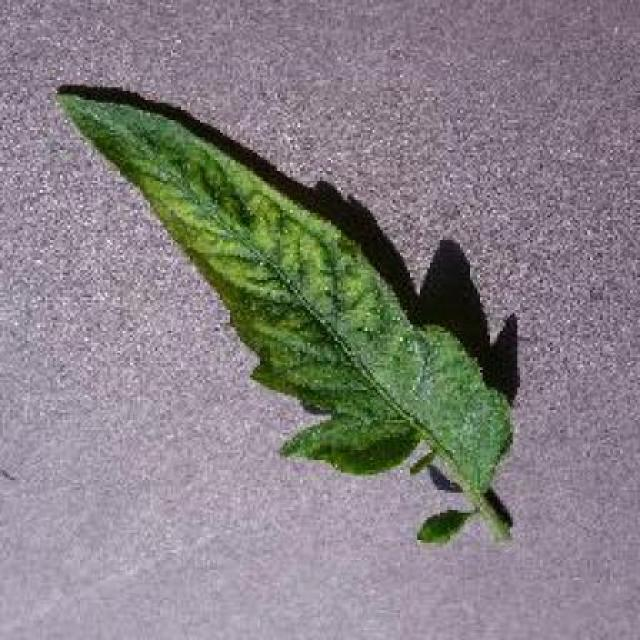Mosaic Virus: (49, 88, 514, 495)
